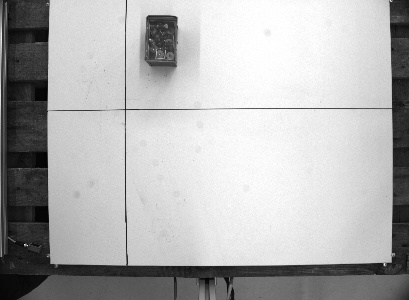kltxs: (142, 12, 180, 69)
